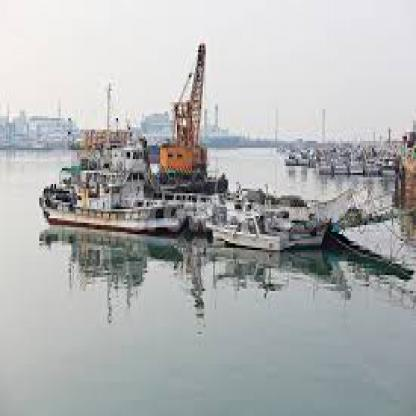fish-b: (27, 157, 195, 248)
